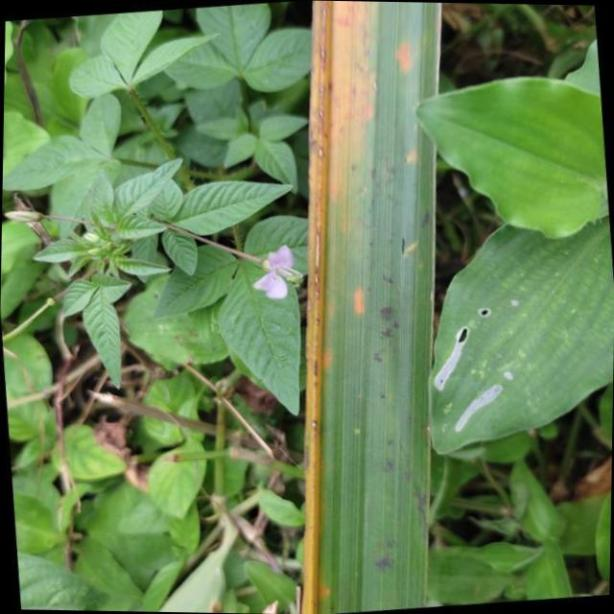Megnesium: (307, 0, 440, 614)
